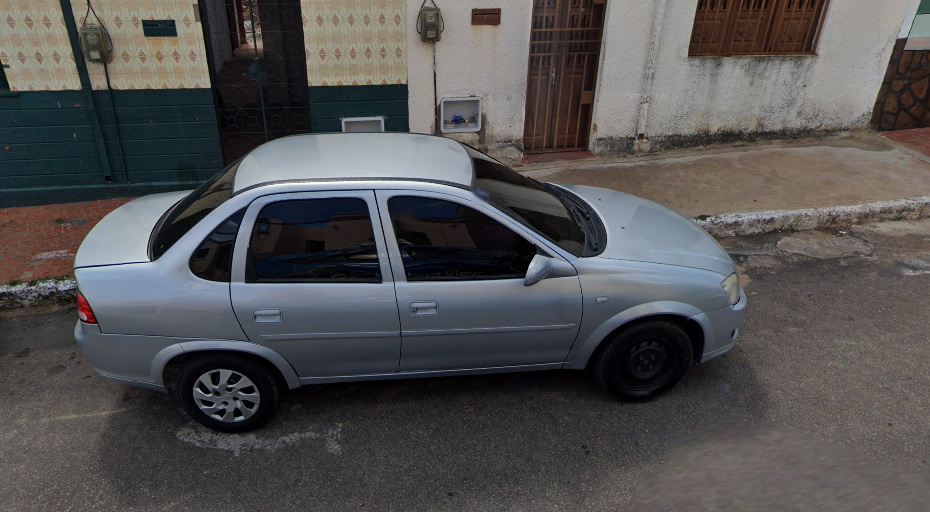car: (66, 123, 754, 440)
